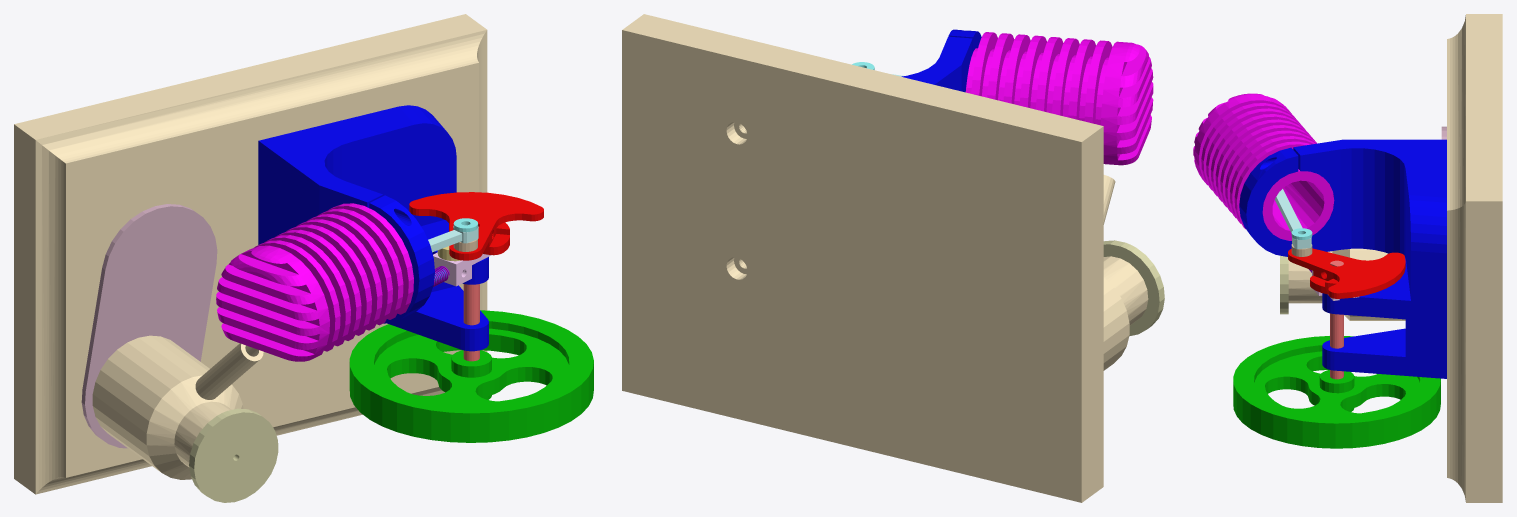
File: Engine_TLA_assembly.glb
The picture shows the model from 3 angles, left to right: view 1: azimuth 30°, elevation 25°; view 2: azimuth 150°, elevation 25°; view 3: azimuth 270°, elevation 25°; orthographic projection. The views are drawn at different scales.
Visible parts, largest first — view 1: Node1; view 2: Node1; view 3: Node1.
Boxes of the visible parts, x1=… form: Node1: x1=14, y1=14, x2=593, y2=502; Node1: x1=622, y1=14, x2=1164, y2=502; Node1: x1=1193, y1=14, x2=1502, y2=502.
Size of the model in its own units: 105 by 76.2 by 70.83.
